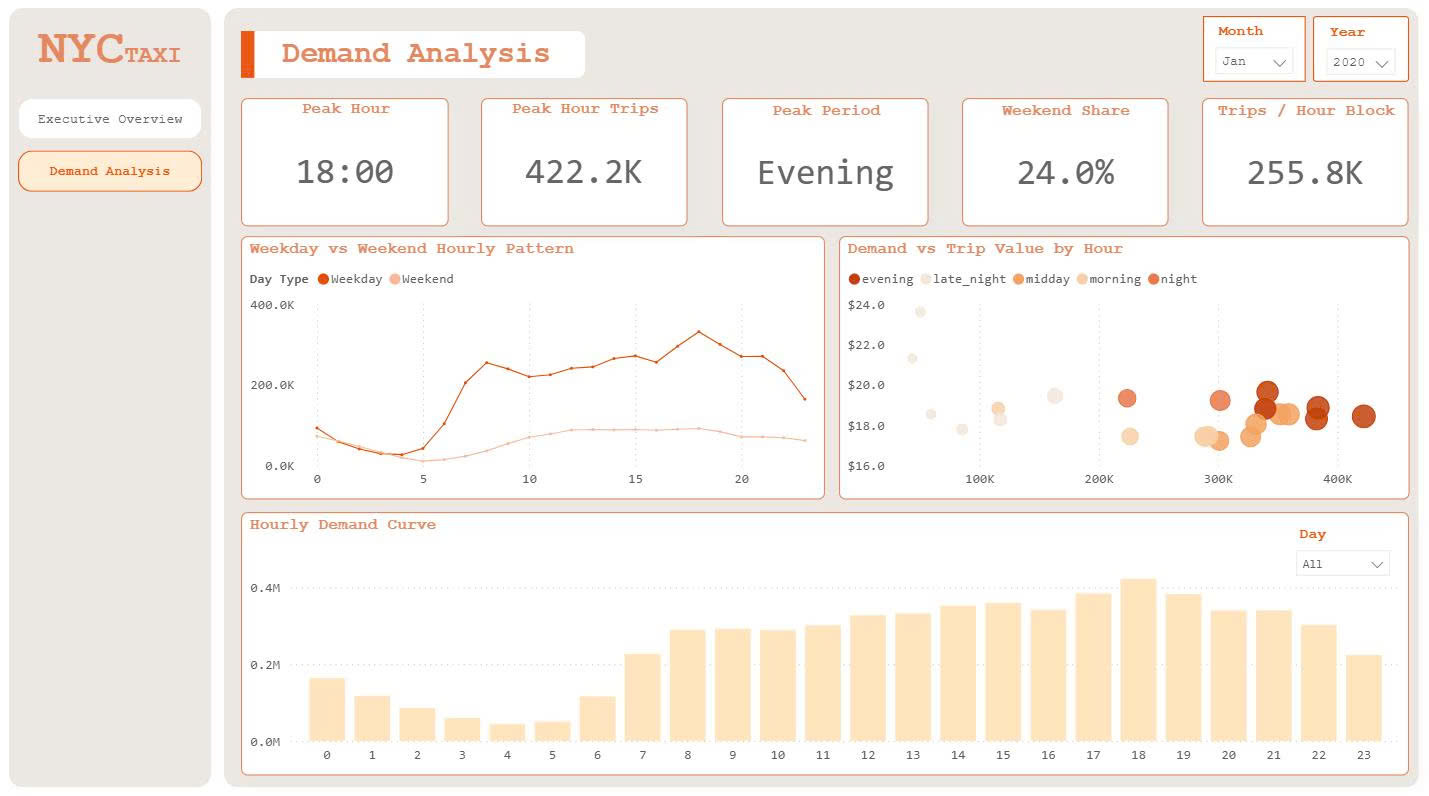

Layout of this report page (visuals, bound fields, positions):
{"tool":"powerbi","page":{"name":"Demand Analysis","canvas":[1280,720],"ordinal":1},"visuals":[{"type":"shape","box":[201,12,1070,698],"z":0},{"type":"slicer","fields":{"Values":["dim_date.year"]},"box":[1176,19,86,59],"z":1000},{"type":"clusteredColumnChart","title":"Hourly Demand Curve","fields":{"Category":["dim_hour.hour"],"Y":["_Measures_P2.Trips Total P2"]},"box":[216,463,1046,236],"z":2000},{"type":"lineChart","title":"Weekday vs Weekend Hourly Pattern","fields":{"Category":["dim_hour.hour"],"Y":["_Measures_P2.Trips Total P2"],"Series":["dim_date.Day Type"]},"box":[216,216,523,236],"z":3000},{"type":"shape","box":[8,12,181,698],"z":4000},{"type":"cardVisual","title":"Weekend Share","fields":{"Data":["_Measures_P2.Weekend Trip Share"]},"box":[861.5,91.9,185,115.2],"z":5000},{"type":"pageNavigator","box":[16,92,165,85],"z":6000},{"type":"cardVisual","title":"Peak Period","fields":{"Data":["_Measures_P2.KPI Peak Time Period Label"]},"box":[646.4,91.9,185,115.2],"z":7000},{"type":"slicer","fields":{"Values":["dim_date.month_name"]},"box":[1077,19,92,59],"z":8000},{"type":"cardVisual","title":"Trips / Hour Block","fields":{"Data":["_Measures_P2.Avg Trips per Active Hour"]},"box":[1076.5,91.9,185,115],"z":9000},{"type":"cardVisual","title":"Peak Hour","fields":{"Data":["_Measures_P2.KPI Peak Hour Label"]},"box":[215.8,91.9,186,115],"z":10000},{"type":"cardVisual","title":"Peak Hour Trips","fields":{"Data":["_Measures_P2.KPI Peak Hour Trips"]},"box":[431.1,91.9,185,115],"z":11000},{"type":"textbox","box":[26,19,145,59],"z":12000},{"type":"textbox","box":[222,32,302,42],"z":13000},{"type":"shape","box":[216,32,12,42],"z":14000},{"type":"slicer","fields":{"Values":["dim_date.day_of_week_name"]},"box":[1151,470,104,59],"z":15000},{"type":"scatterChart","title":"Demand vs Trip Value by Hour","fields":{"Category":["dim_hour.hour"],"X":["_Measures_P2.Trips Total P2"],"Y":["_Measures_P2.Avg Trip Amount P2"],"Series":["dim_hour.time_period"],"Size":["_Measures_P2.Revenue Total P2"]},"box":[751,216,511,236],"z":16000}]}

Visuals, with their boxes in screenshot pixels (x1, y1, x2, y2), scaled from the page's 1280x720 canvas onto the 1429x796 screenshot:
shape: pyautogui.locateOnScreen(224, 13, 1419, 785)
slicer - dim_date.year: pyautogui.locateOnScreen(1313, 21, 1409, 86)
"Hourly Demand Curve" clusteredColumnChart: pyautogui.locateOnScreen(241, 512, 1409, 773)
"Weekday vs Weekend Hourly Pattern" lineChart: pyautogui.locateOnScreen(241, 239, 825, 500)
shape: pyautogui.locateOnScreen(9, 13, 211, 785)
"Weekend Share" cardVisual: pyautogui.locateOnScreen(962, 102, 1168, 229)
pageNavigator: pyautogui.locateOnScreen(18, 102, 202, 196)
"Peak Period" cardVisual: pyautogui.locateOnScreen(722, 102, 928, 229)
slicer - dim_date.month_name: pyautogui.locateOnScreen(1202, 21, 1305, 86)
"Trips / Hour Block" cardVisual: pyautogui.locateOnScreen(1202, 102, 1408, 229)
"Peak Hour" cardVisual: pyautogui.locateOnScreen(241, 102, 449, 229)
"Peak Hour Trips" cardVisual: pyautogui.locateOnScreen(481, 102, 688, 229)
textbox: pyautogui.locateOnScreen(29, 21, 191, 86)
textbox: pyautogui.locateOnScreen(248, 35, 585, 82)
shape: pyautogui.locateOnScreen(241, 35, 255, 82)
slicer - dim_date.day_of_week_name: pyautogui.locateOnScreen(1285, 520, 1401, 585)
"Demand vs Trip Value by Hour" scatterChart: pyautogui.locateOnScreen(838, 239, 1409, 500)
